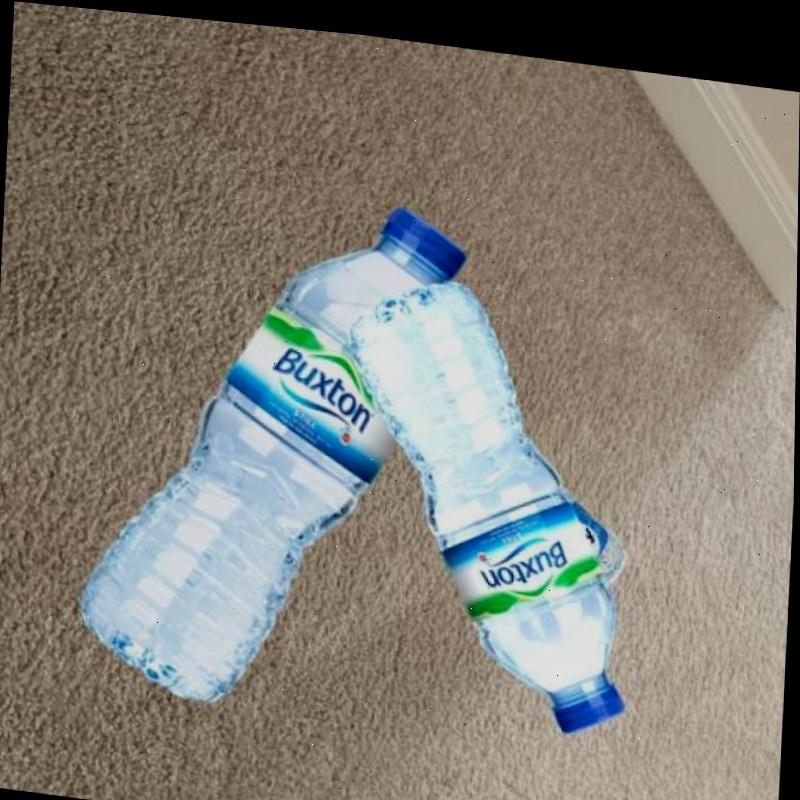botella: (78, 161, 471, 728), (332, 253, 643, 730), (558, 471, 631, 573)
